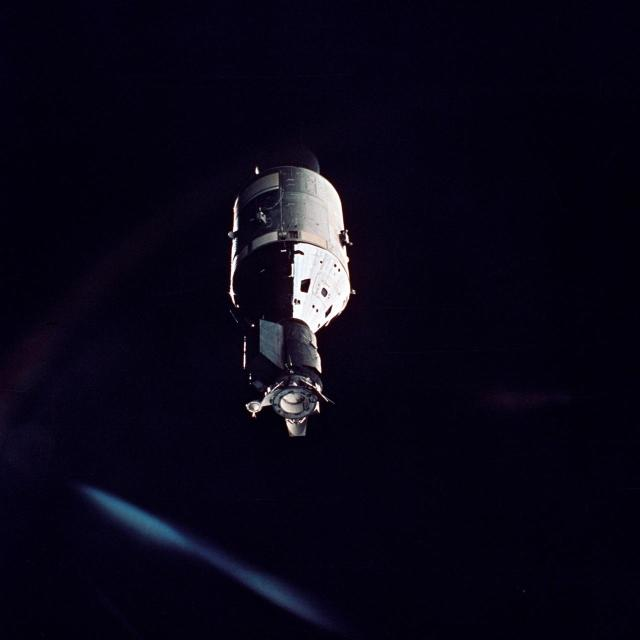satellite: (231, 158, 350, 440)
